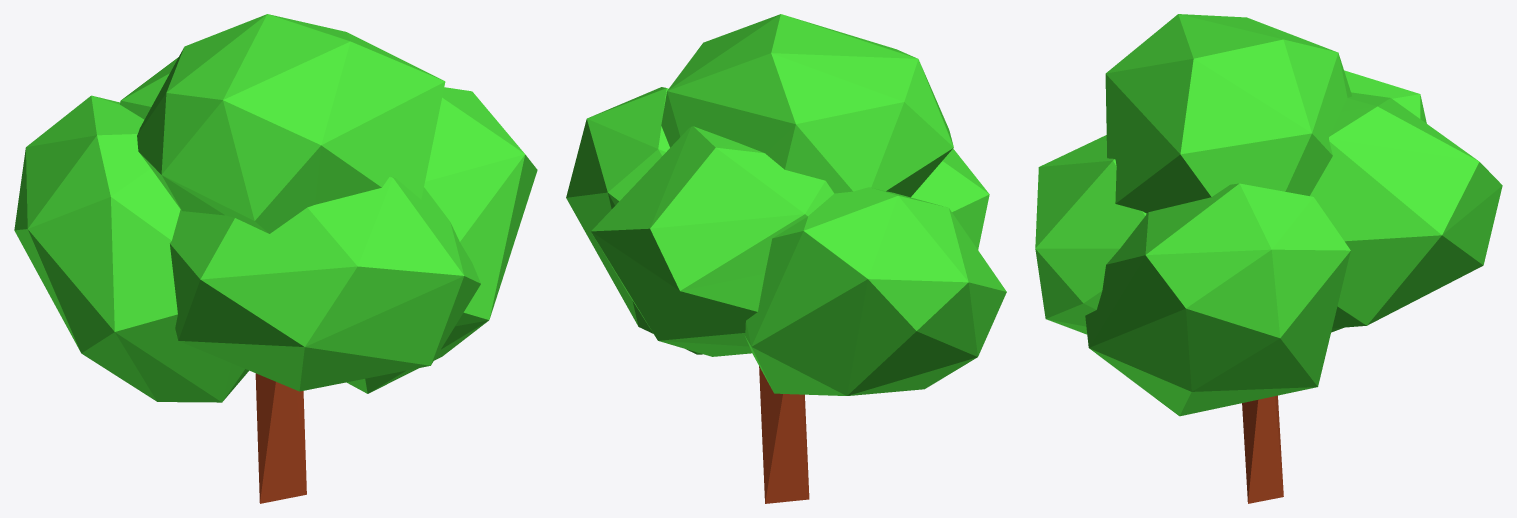
The model's file is arvore_low-poly.glb.
3 renders of one model, left to right at view 1: azimuth 30°, elevation 25°; view 2: azimuth 150°, elevation 25°; view 3: azimuth 270°, elevation 25°, orthographic. The views are drawn at different scales.
Bounding box in the file's own units: 6.62 × 6.75 × 6.29.
